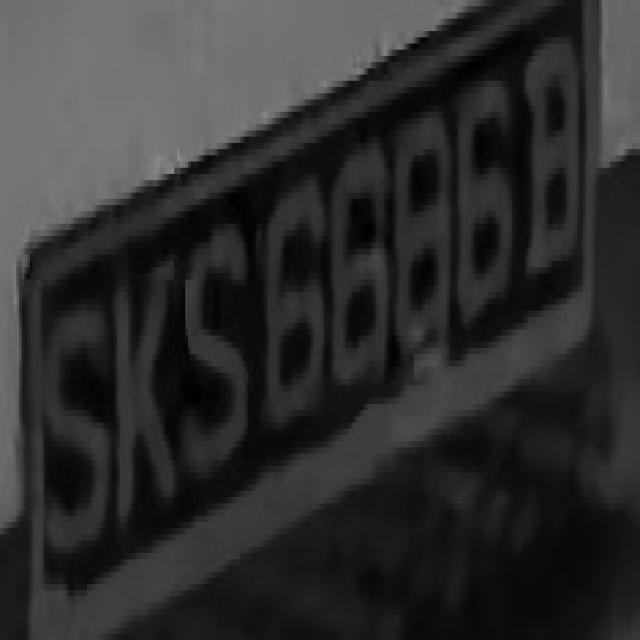6: (322, 137, 392, 435), (447, 56, 520, 329), (258, 162, 329, 441)
8: (381, 87, 452, 373)
B: (514, 18, 586, 286)
K: (109, 242, 185, 541)
S: (174, 205, 251, 497), (35, 286, 109, 565)
